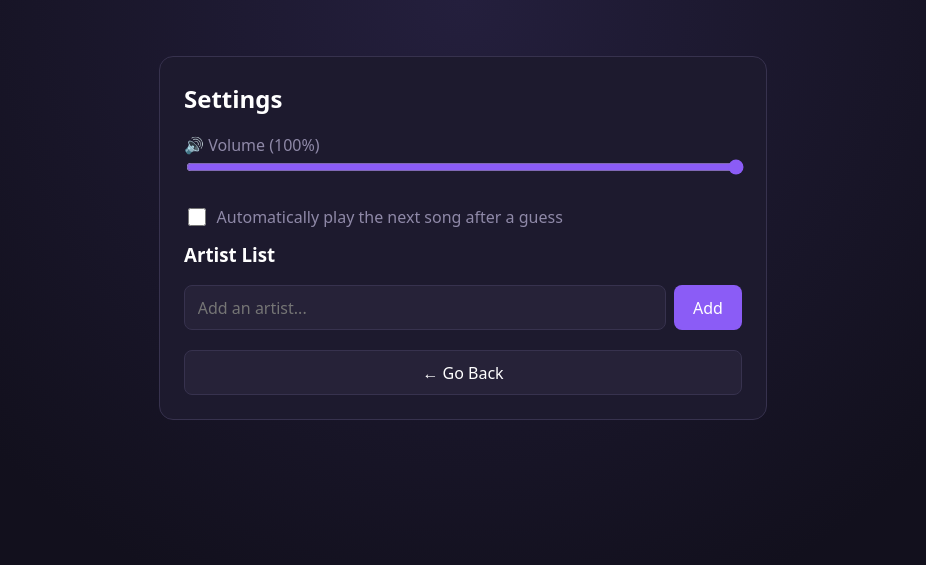
Test: Settings screen › only shows the delay slider when auto-advance is on
Expected: the text "Delay before the next song" is not shown
Click the checkbox labelled "Automatically play the next song after a guess" at [197, 217], box [188, 208, 206, 226]
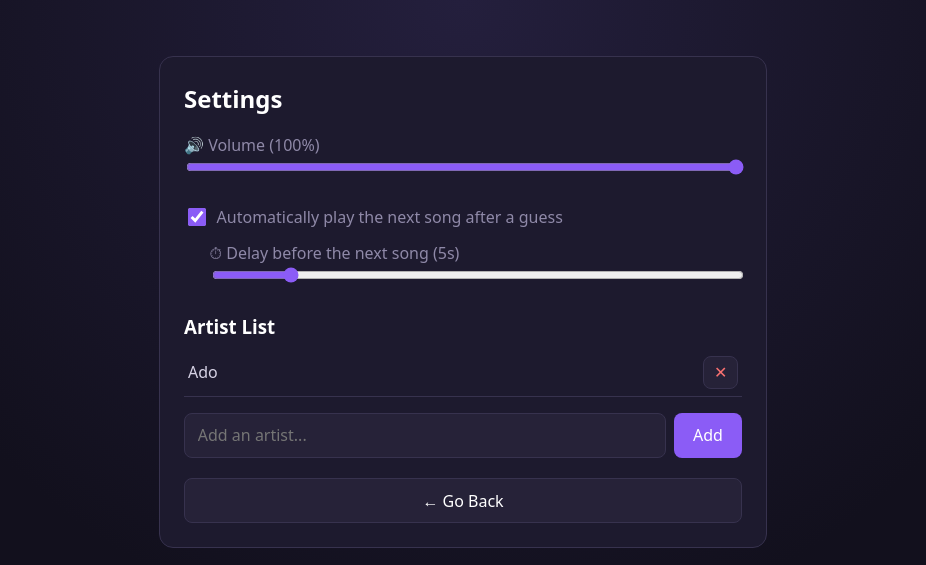
Now the text "⏱ Delay before the next song (5s)" is shown, box [210, 241, 742, 289]
